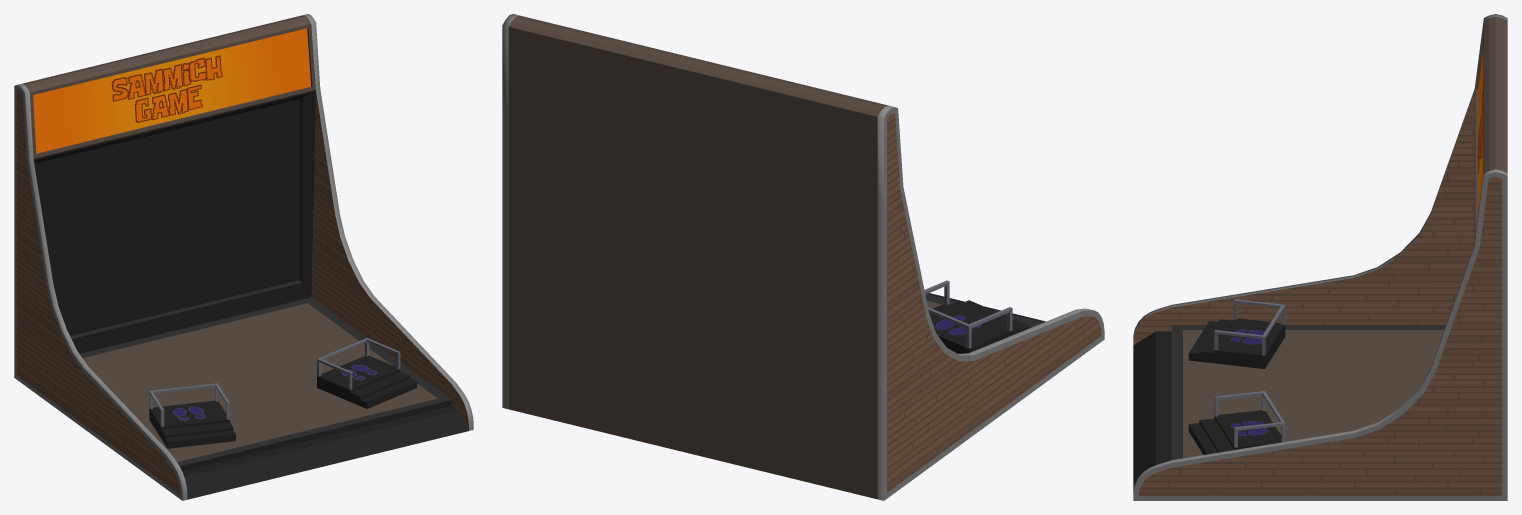
File: sammich-screen.glb
3 views of the same model, side by side, from view 1: azimuth 30°, elevation 25°; view 2: azimuth 150°, elevation 25°; view 3: azimuth 270°, elevation 25° (orthographic). The views are drawn at different scales.
Parts seen in each view (by area): view 1: Frame, Stand_right, Stand_left, Curve.014, Curve.020; view 2: Frame, Stand_left; view 3: Frame, Stand_left, Stand_right.
Boxes of the visible parts, <box> form: Frame: <box>14,14,473,500</box>; Stand_right: <box>317,338,417,408</box>; Stand_left: <box>149,383,235,448</box>; Curve.014: <box>113,57,221,121</box>; Curve.020: <box>111,55,222,122</box>; Frame: <box>502,14,1104,500</box>; Stand_left: <box>924,280,1032,353</box>; Frame: <box>1133,14,1507,500</box>; Stand_left: <box>1188,299,1285,368</box>; Stand_right: <box>1188,391,1285,454</box>.
Size of what is drawn, in the model's own units: 6.62 by 6.42 by 6.63.
Materials: 6 (6 with a texture image).
